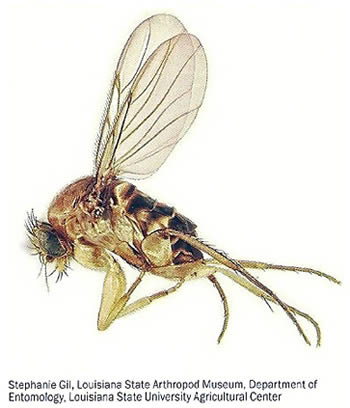phorid fly: (10, 17, 348, 358)
